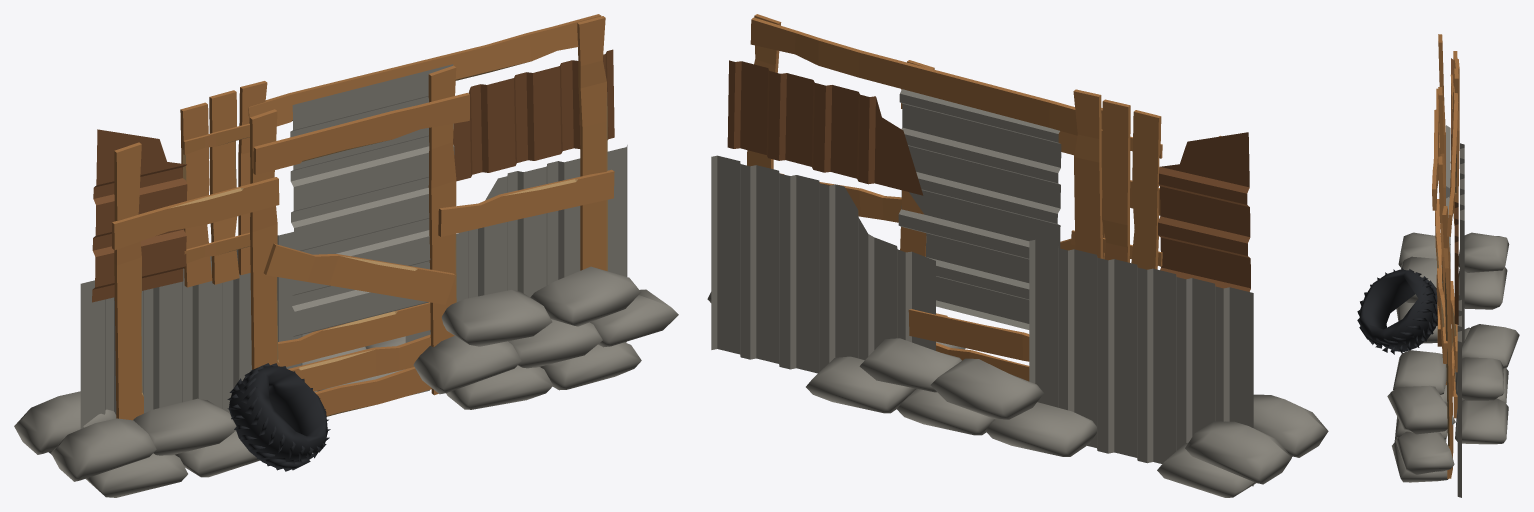
File: cc0-barrier-trash-lod1.glb
3 renders of one model, left to right at view 1: azimuth 30°, elevation 25°; view 2: azimuth 150°, elevation 25°; view 3: azimuth 270°, elevation 25°, orthographic. The views are drawn at different scales.
Visible parts, largest first — view 1: part_0; view 2: part_0; view 3: part_0.
Boxes of the visible parts, box(x1,y1,x2,y2) form: part_0: box(14, 14, 678, 497); part_0: box(707, 14, 1328, 497); part_0: box(1357, 34, 1519, 497).
Bounding box in the file's own units: 4.47 × 2.51 × 1.31.
